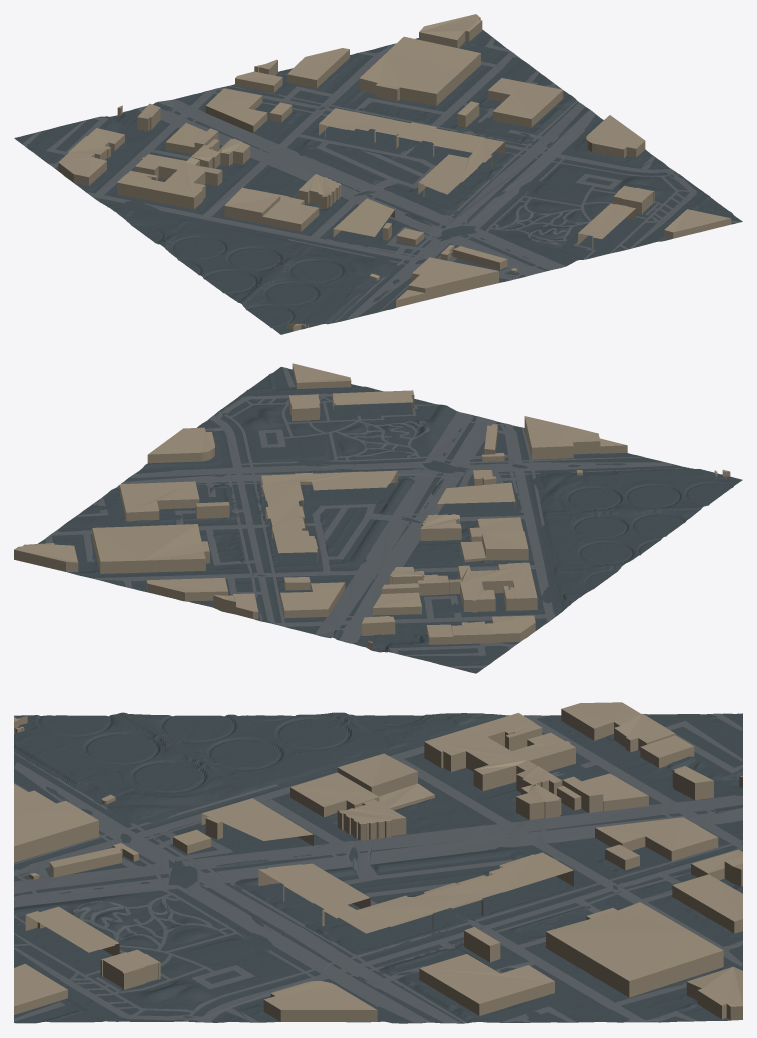
File: epsg26910-1442-10878.lod0.glb
3 renders of one model, top to bottom at view 1: azimuth 30°, elevation 25°; view 2: azimuth 150°, elevation 25°; view 3: azimuth 270°, elevation 25°, orthographic. The views are drawn at different scales.
Visible parts, largest first — view 1: epsg26910-1442-10878-lod0; view 2: epsg26910-1442-10878-lod0; view 3: epsg26910-1442-10878-lod0.
Boxes of the visible parts, box(x1,y1,x2,y2) form: epsg26910-1442-10878-lod0: box(14, 14, 742, 334); epsg26910-1442-10878-lod0: box(14, 363, 742, 673); epsg26910-1442-10878-lod0: box(14, 702, 742, 1023).
Bounding box in the file's own units: 384 × 14.44 × 384.
